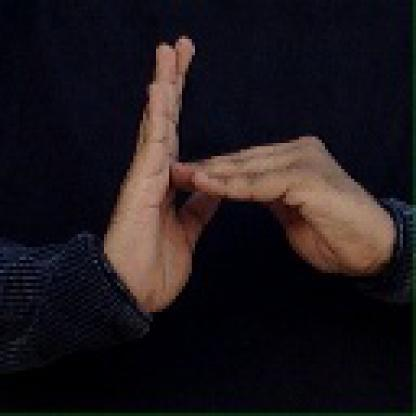Z: (94, 27, 384, 312)
